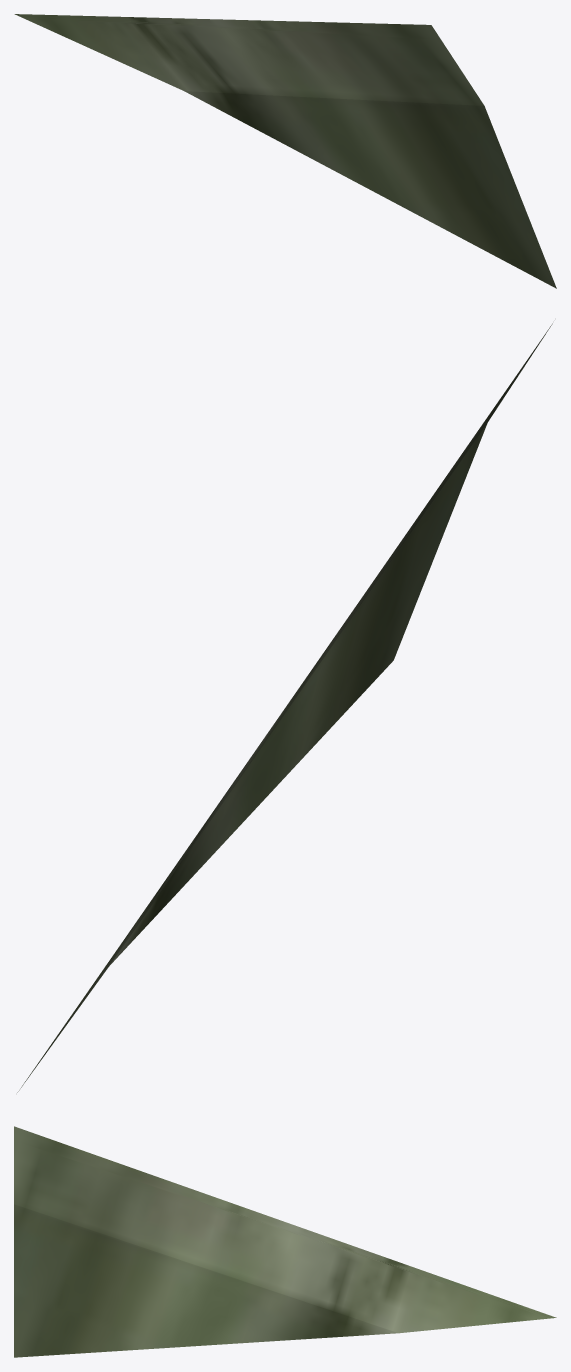
3 views of the same model, one above another, from view 1: azimuth 30°, elevation 25°; view 2: azimuth 150°, elevation 25°; view 3: azimuth 270°, elevation 25° (orthographic). The views are drawn at different scales.
Bounding box in the file's own units: 0.1523 × 0.3415 × 0.8772.
1 material, 1 textured.
